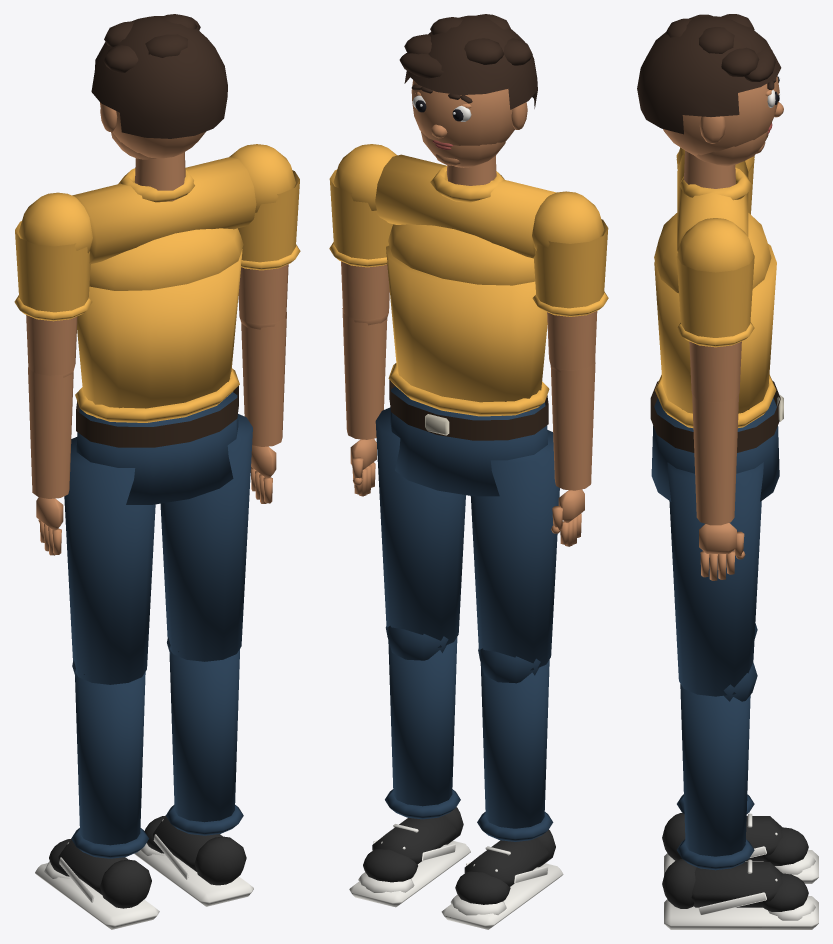
The model's file is person_0.glb.
The picture shows the model from 3 angles, left to right: view 1: azimuth 30°, elevation 25°; view 2: azimuth 150°, elevation 25°; view 3: azimuth 270°, elevation 25°; orthographic projection. The views are drawn at different scales.
Visible parts, largest first — view 1: Body, ShinL, ShinR, LegL, Head, LegR, ArmL, ArmR, ForeArmL, ForeArmR; view 2: Body, ShinL, ShinR, LegL, Head, LegR, ArmL, ArmR, ForeArmL, ForeArmR; view 3: ShinR, Body, Head, LegR, ArmR, ForeArmR, ShinL.
Part boxes in pixels (x1,y1,x2,y2): Body: (72, 157, 256, 504); ShinL: (35, 672, 159, 929); ShinR: (134, 649, 253, 906); LegL: (64, 437, 155, 684); Head: (91, 14, 227, 201); LegR: (160, 414, 252, 661); ArmL: (14, 192, 92, 377); ArmR: (229, 144, 300, 329); ForeArmL: (28, 367, 73, 555); ForeArmR: (241, 312, 286, 503); Body: (375, 154, 556, 496); ShinL: (441, 660, 563, 929); ShinR: (349, 637, 470, 907); LegL: (470, 430, 559, 683); Head: (399, 14, 537, 185); LegR: (375, 407, 465, 660); ArmL: (532, 191, 608, 372); ArmR: (329, 144, 397, 325); ForeArmL: (550, 361, 595, 546); ForeArmR: (342, 308, 387, 496); ShinR: (662, 684, 818, 929); Body: (650, 153, 783, 501); Head: (637, 14, 783, 188); LegR: (667, 462, 763, 701); ArmR: (676, 218, 754, 402); ForeArmR: (692, 394, 745, 580); ShinL: (662, 794, 818, 883).
Bounding box in the file's own units: 0.554 × 1.68 × 0.317.
